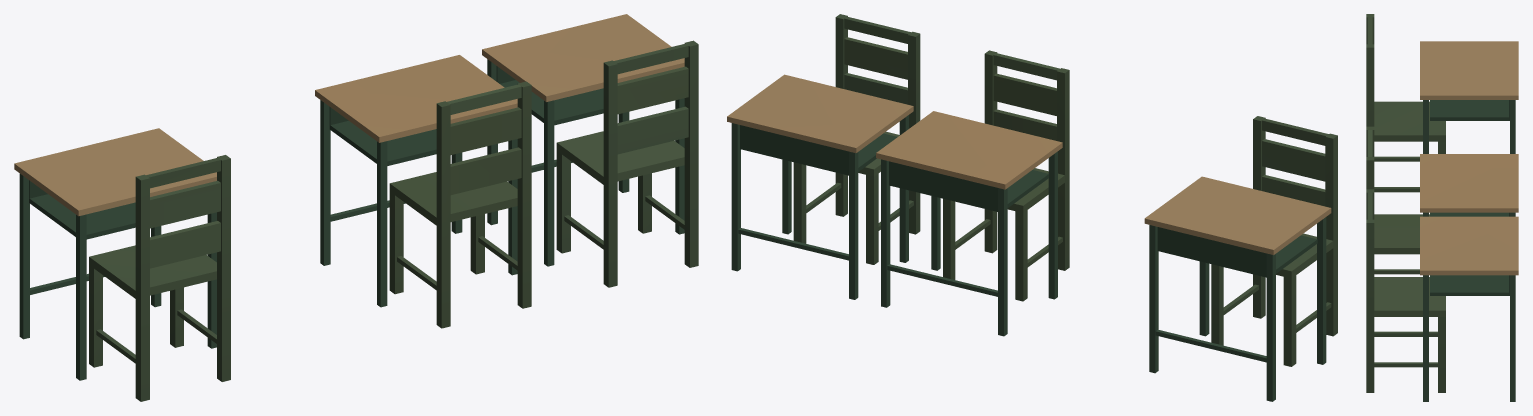
The model's file is table.school_desks_three_right.green.glb.
3 views of the same model, side by side, from view 1: azimuth 30°, elevation 25°; view 2: azimuth 150°, elevation 25°; view 3: azimuth 270°, elevation 25° (orthographic). The views are drawn at different scales.
Visible parts, largest first — view 1: table_school_desks_three_right_green; view 2: table_school_desks_three_right_green; view 3: table_school_desks_three_right_green.
Part boxes in pixels (left/top/right/bottom): table_school_desks_three_right_green: left=14, top=14, right=698, bottom=401; table_school_desks_three_right_green: left=727, top=14, right=1337, bottom=401; table_school_desks_three_right_green: left=1366, top=14, right=1518, bottom=401.
Size of what is drawn, in the model's own units: 2.75 by 0.95 by 0.772.
